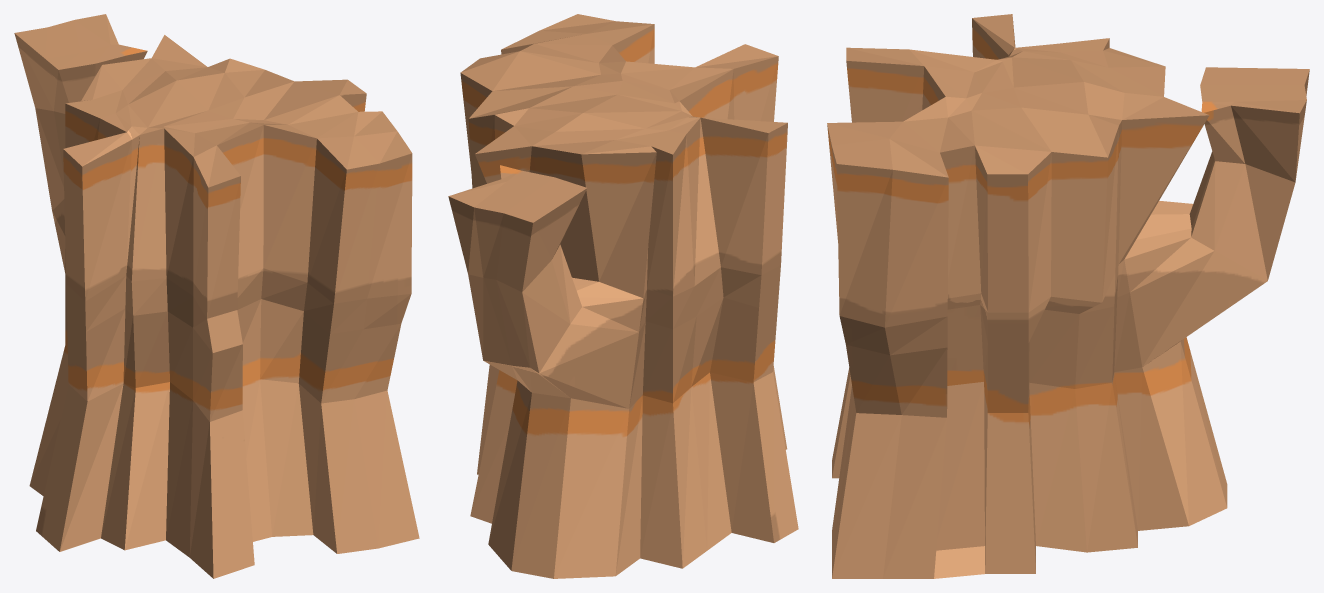
File: floorpillarWithoutFloor.fbx
The picture shows the model from 3 angles, left to right: view 1: azimuth 30°, elevation 25°; view 2: azimuth 150°, elevation 25°; view 3: azimuth 270°, elevation 25°; orthographic projection. The views are drawn at different scales.
Visible parts, largest first — view 1: Cube; view 2: Cube; view 3: Cube.
Boxes of the visible parts, bbox=[...] form: Cube: bbox=[14, 14, 419, 578]; Cube: bbox=[448, 14, 798, 578]; Cube: bbox=[827, 14, 1309, 578].
Size of the model in its own units: 74.78 by 93.29 by 94.62.
Materials: 1 (1 with a texture image).
